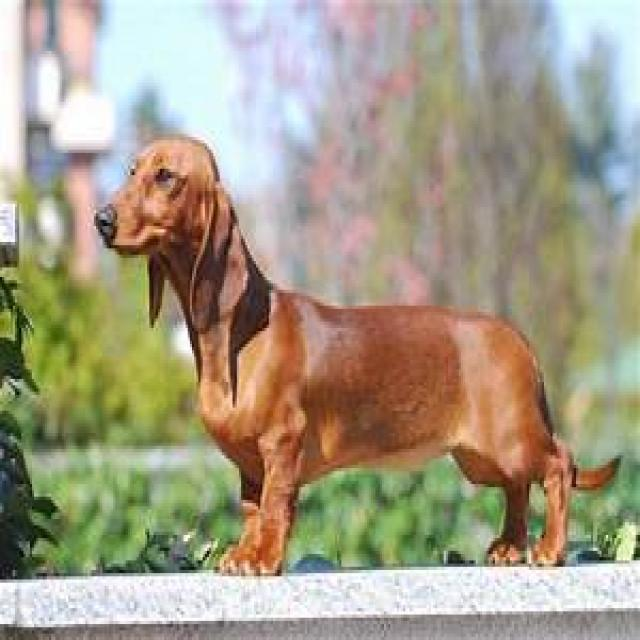dog: (94, 137, 617, 576)
